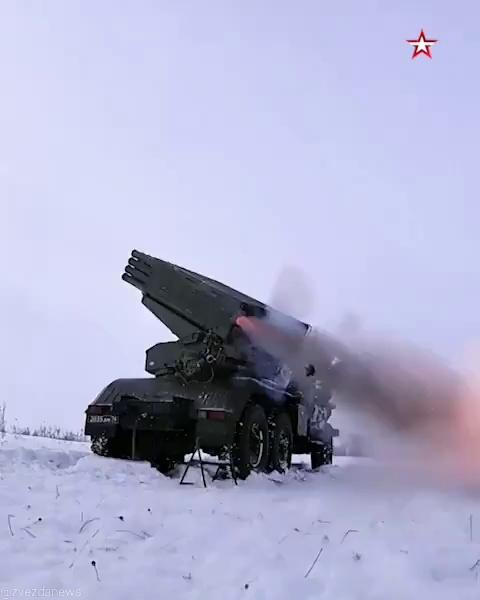MIL_SAM_TEL: (84, 250, 338, 477)
